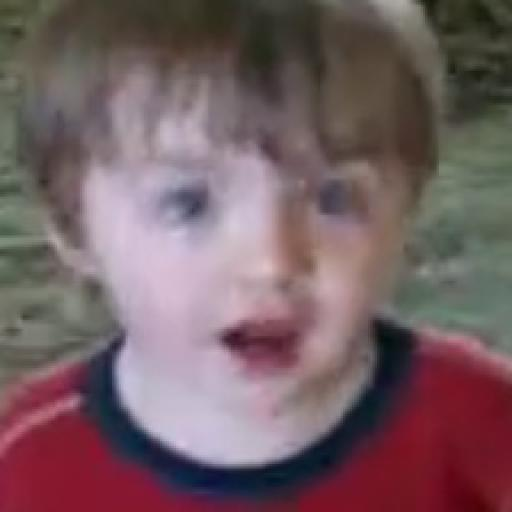Autism: (56, 0, 442, 436)
